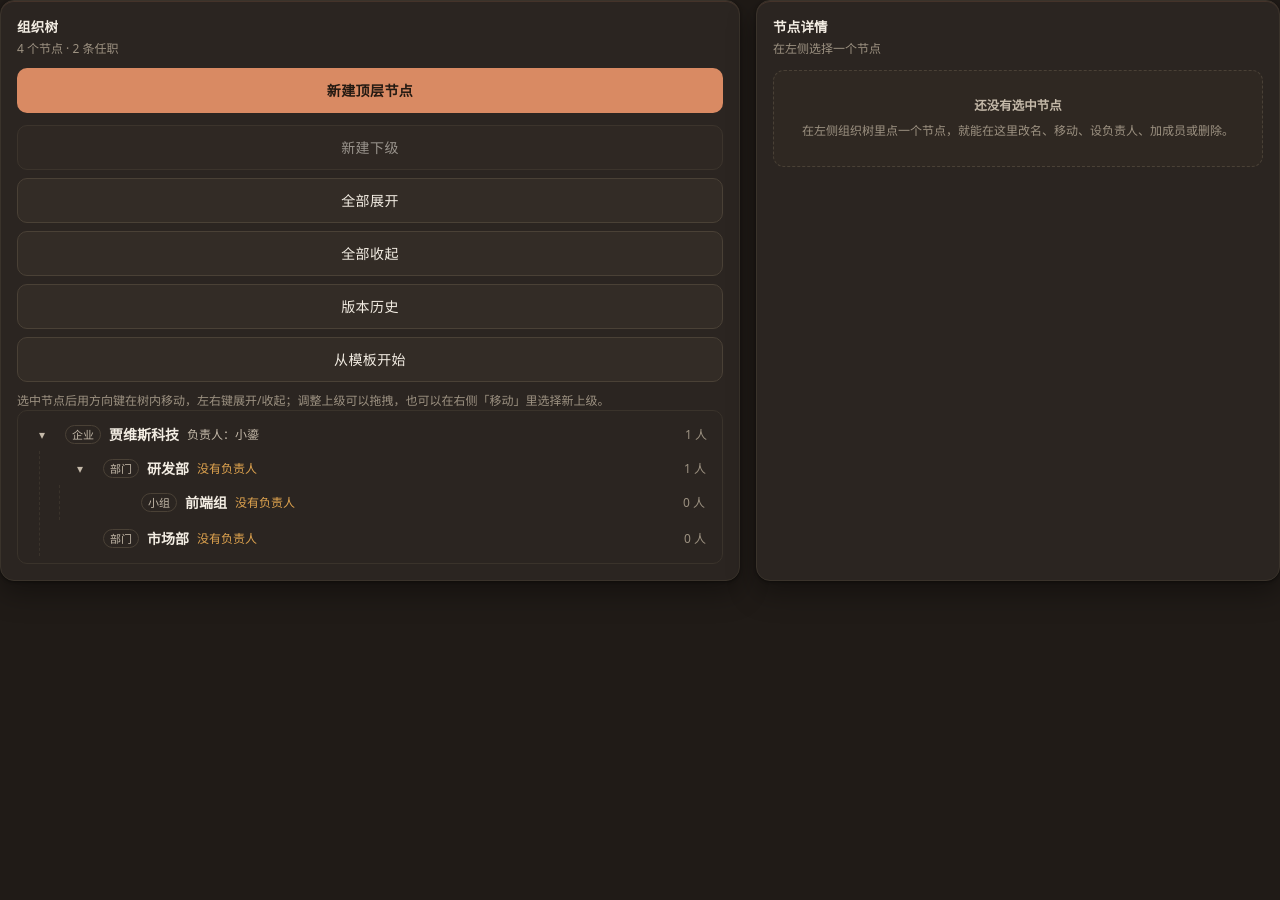
组织架构页 › 新建顶层节点会提交名称、类型与空上级
The width and height of the screenshot is (1280, 900).
expect the text "贾维斯科技" is shown: met, box 109,424 -> 179,445
Click the button "新建顶层节点" at (370, 91), box 17,68 -> 723,113
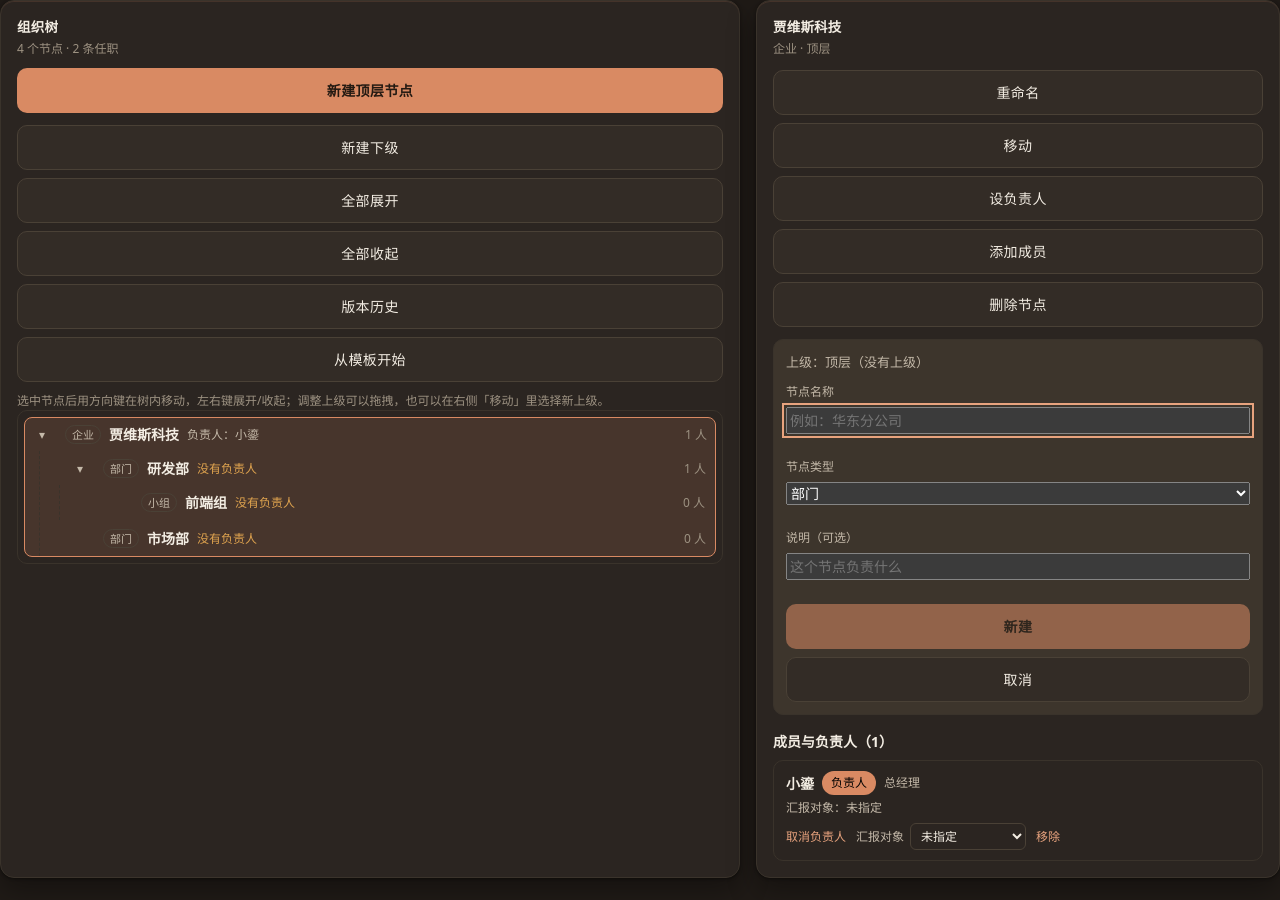
Type "新事业部" into the field labelled "节点名称" at (1018, 420), box 786,407 -> 1250,434
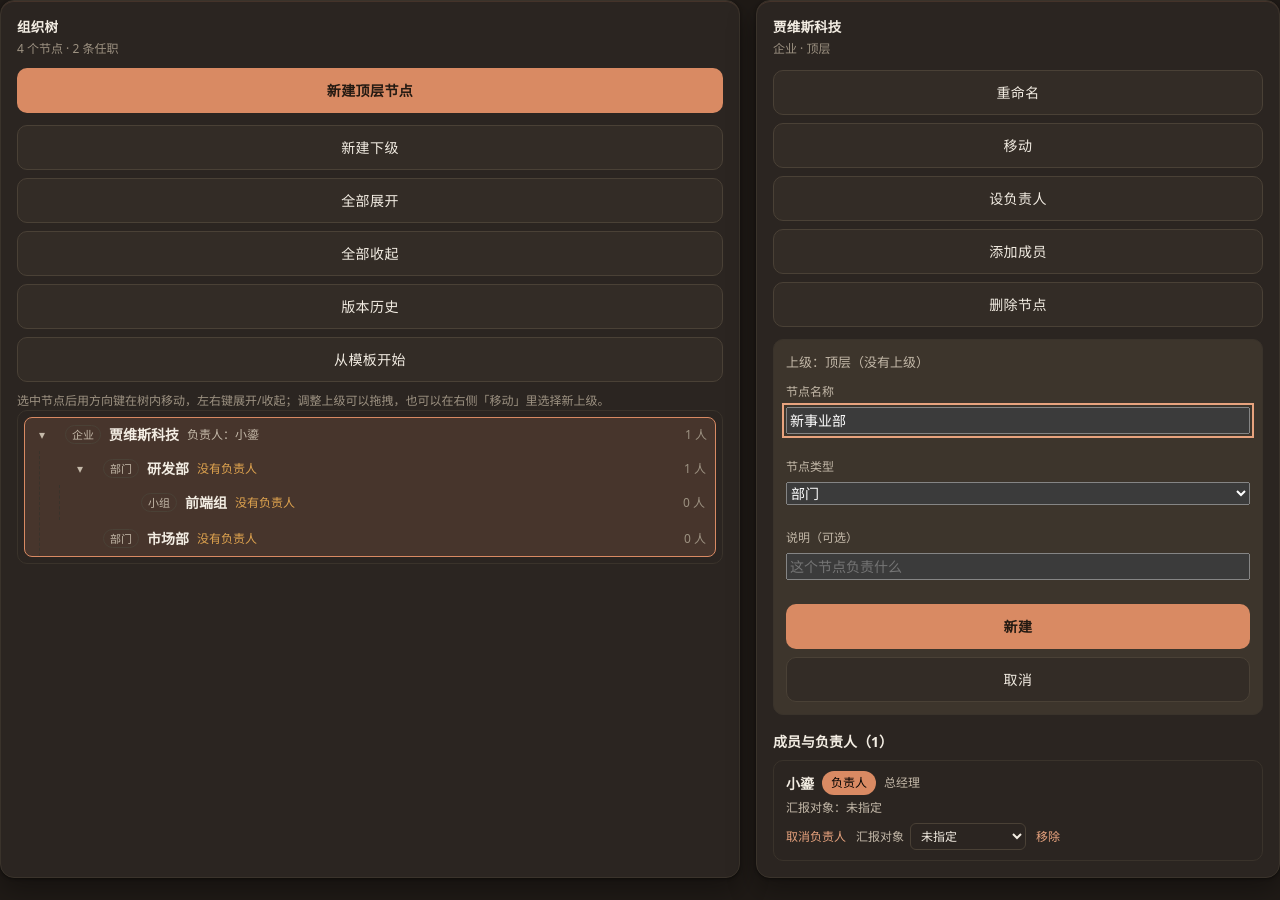
Select "事业部" in the dropdown labelled "节点类型" at (1018, 494), box 786,482 -> 1250,505
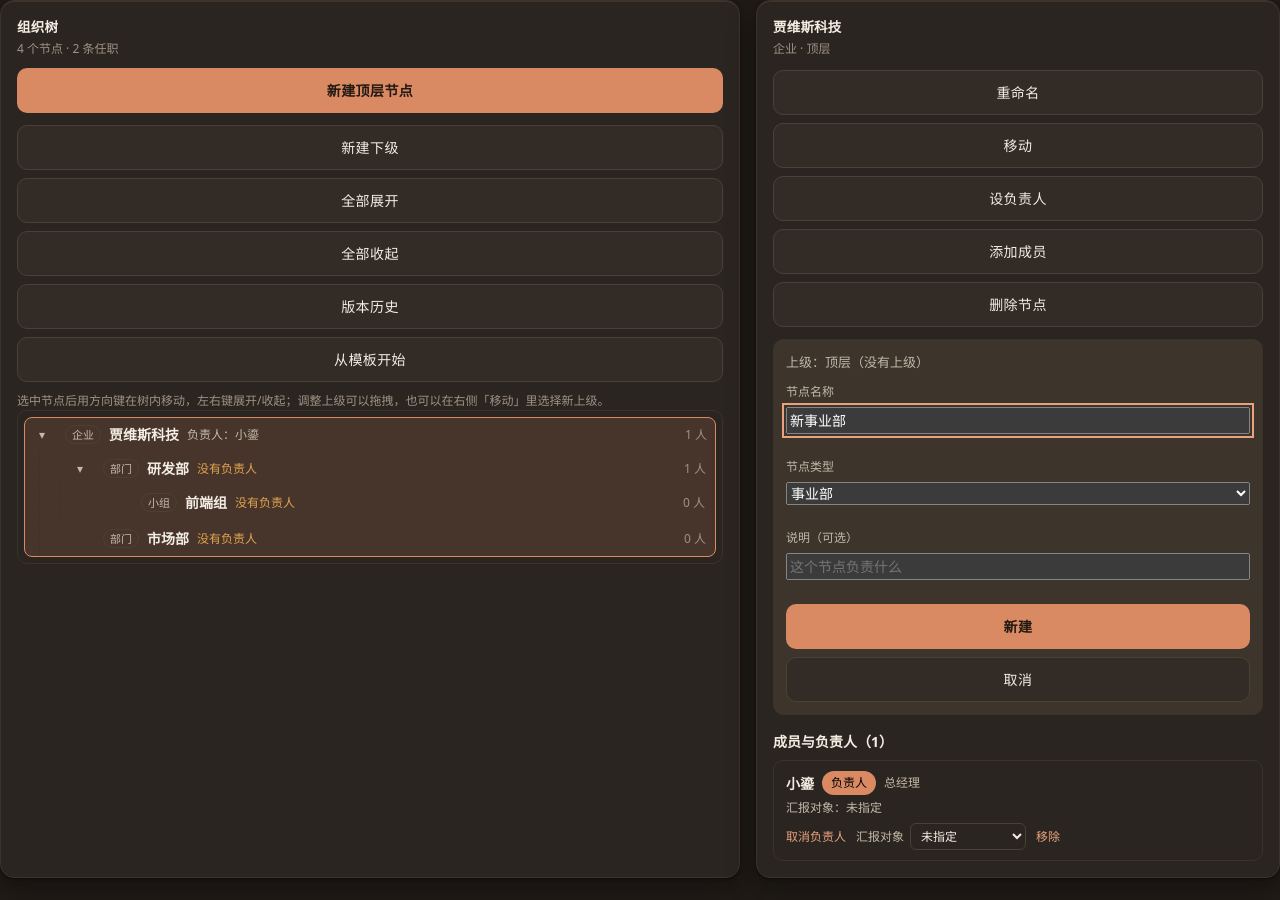
Click the button "新建" at (1018, 626), box 786,604 -> 1250,649
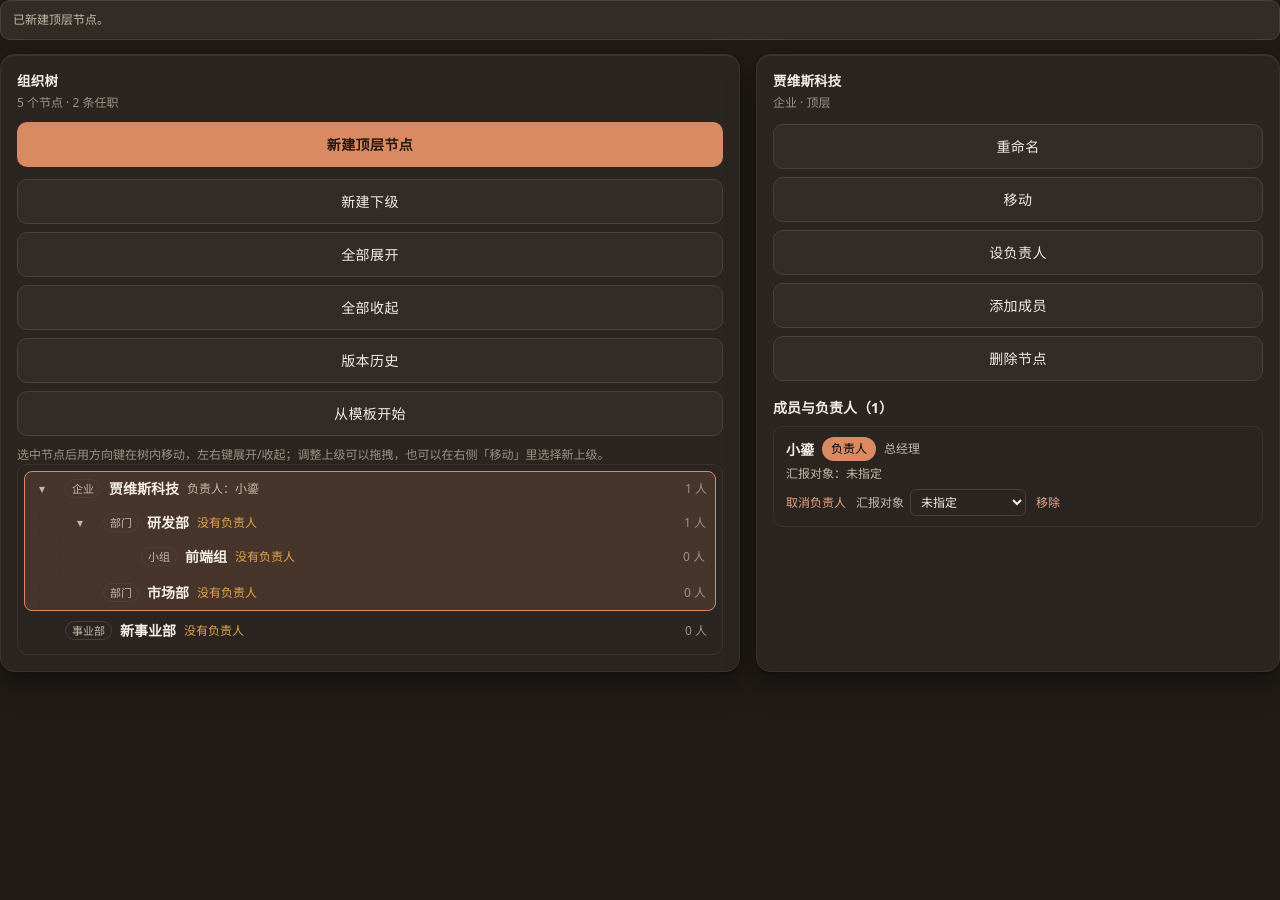
expect the text "新事业部" is shown: met, box 120,620 -> 176,641
expect the label labelled "节点名称" is gone: met
